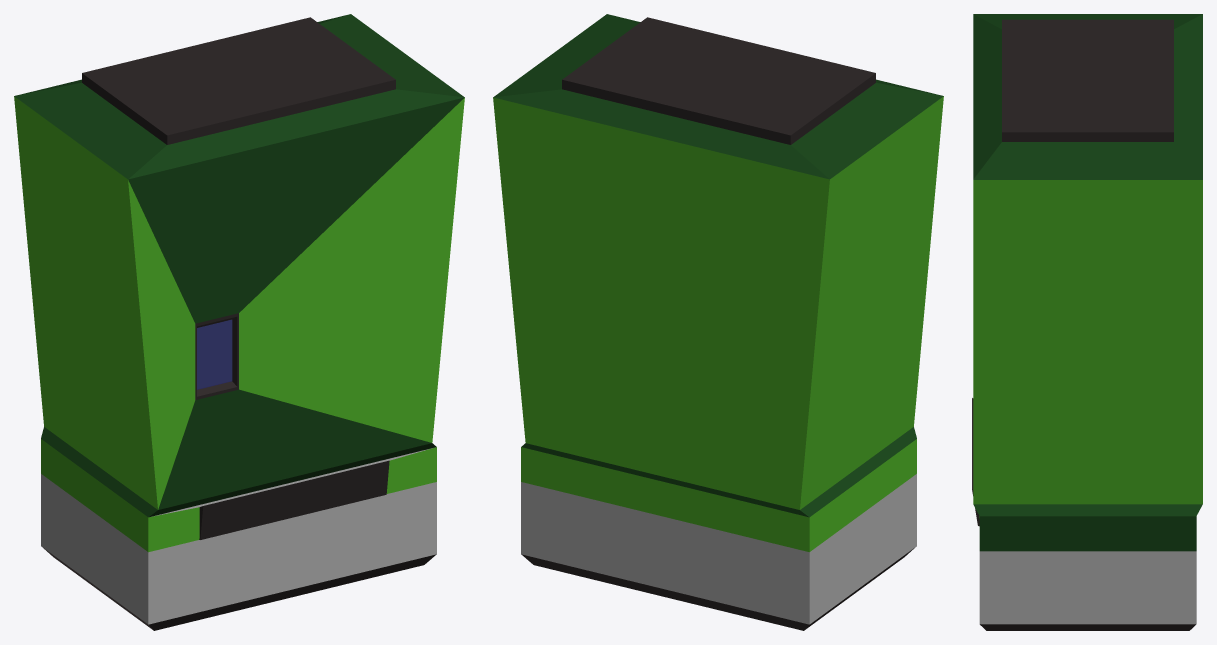
File: Greeen_VendingMachine.fbx
3 renders of one model, left to right at view 1: azimuth 30°, elevation 25°; view 2: azimuth 150°, elevation 25°; view 3: azimuth 270°, elevation 25°, orthographic.
Parts seen in each view (by area): view 1: pCube1; view 2: pCube1; view 3: pCube1.
Part boxes in pixels (x1,y1,x2,y2): pCube1: [14, 14, 464, 630]; pCube1: [493, 14, 943, 630]; pCube1: [972, 14, 1202, 630].
Size of the model in its own units: 14.07 by 19.35 by 8.29.
